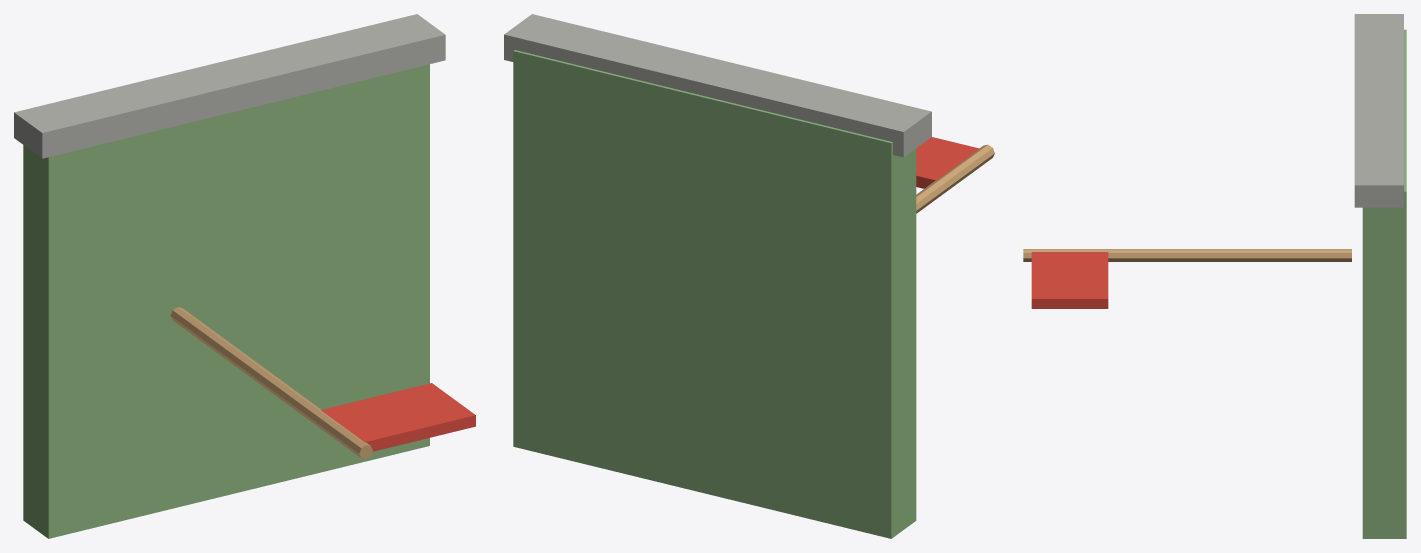
The model's file is 16_CoHieuDo.glb.
3 views of the same model, side by side, from view 1: azimuth 30°, elevation 25°; view 2: azimuth 150°, elevation 25°; view 3: azimuth 270°, elevation 25° (orthographic). The views are drawn at different scales.
Parts seen in each view (by area): view 1: base, edge, flag, pole; view 2: base, edge, flag, pole; view 3: base, edge, flag, pole.
Boxes of the visible parts, x1,y1,x2,y2 form: base: (23,64,429,538); edge: (14,14,445,158); flag: (321,383,475,451); pole: (170,307,372,459); base: (513,50,916,538); edge: (504,14,931,157); flag: (916,137,979,188); pole: (916,144,994,213); base: (1362,29,1406,538); edge: (1354,14,1403,207); flag: (1031,252,1108,308); pole: (1023,249,1351,261).
Size of the model in its own units: 1.48 by 1.44 by 1.4.
